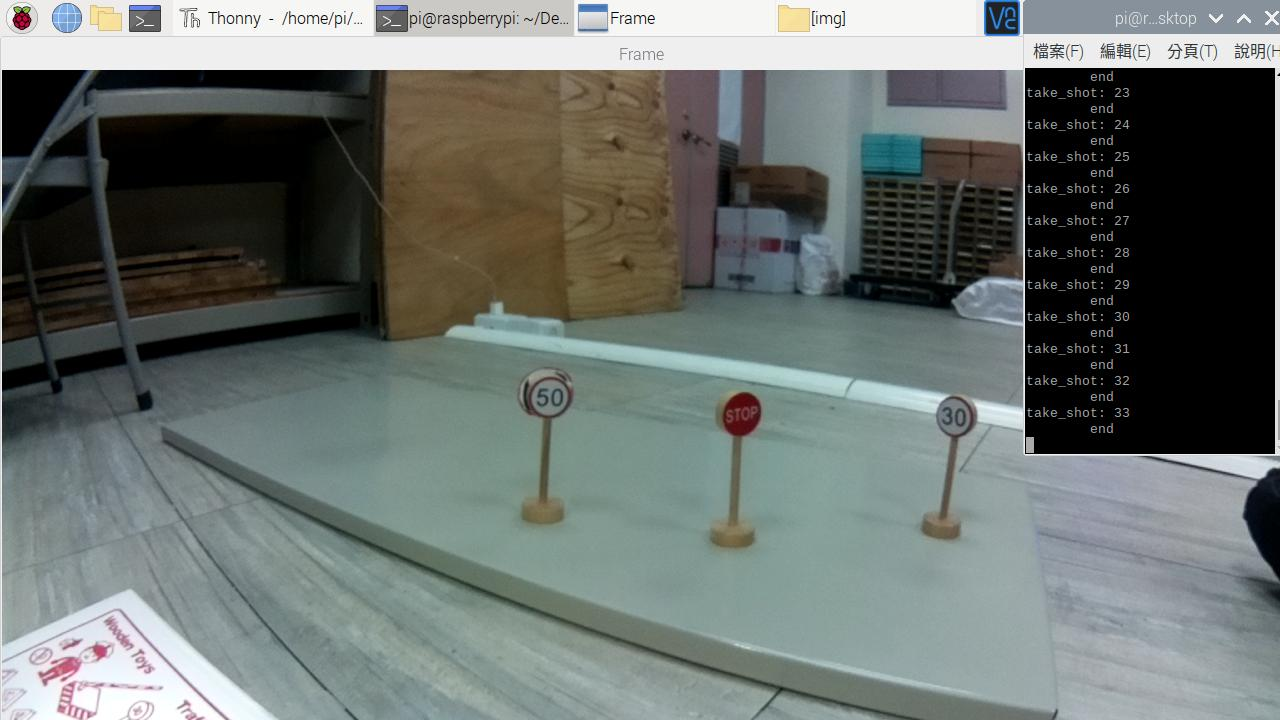Speed30: (936, 392, 977, 439)
Speed50: (524, 373, 574, 414)
Stop: (719, 386, 763, 436)
